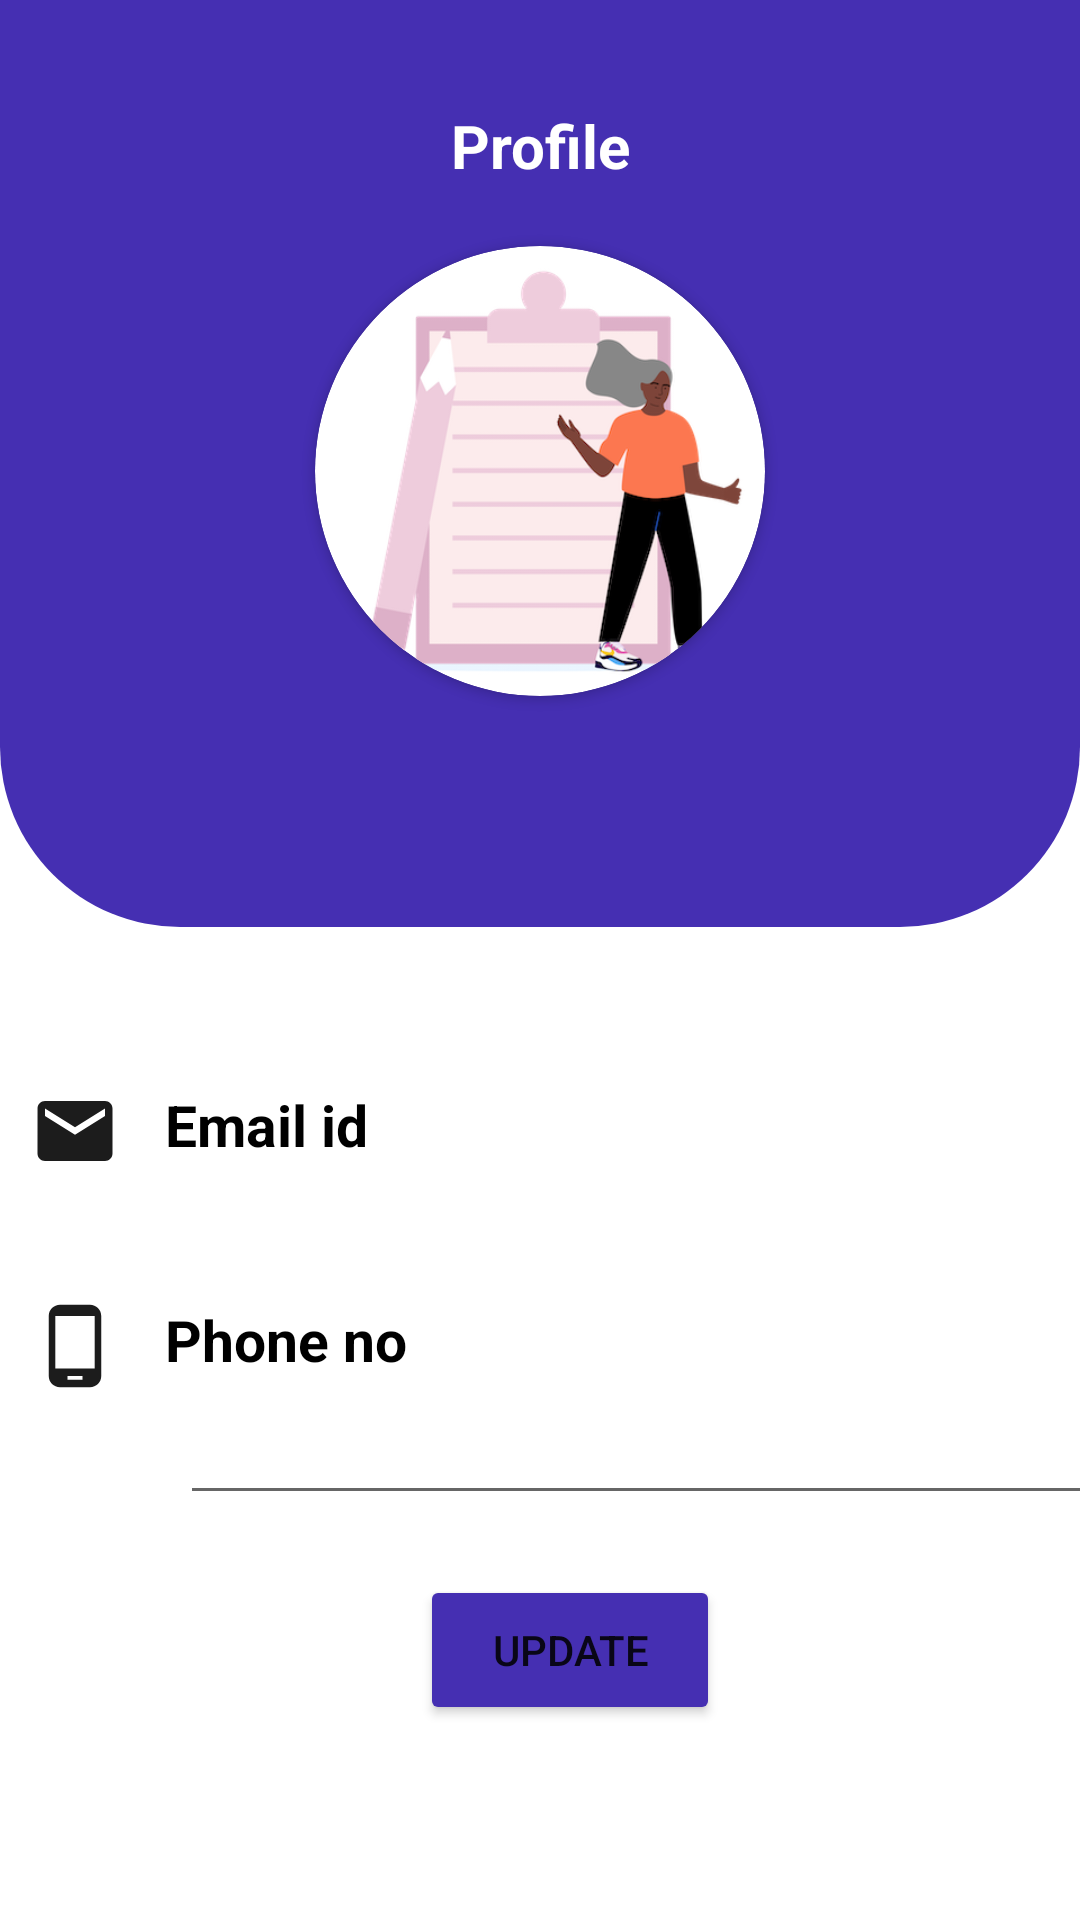

Screen size 1080*1920. Icon name, then its box in pixels as (x1, y1, x2, y2):
phone android: (48, 1304, 102, 1388)
